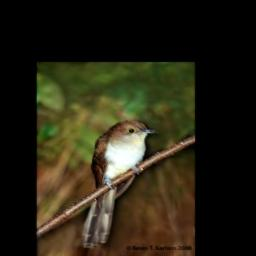Cuckoo: (81, 119, 157, 248)
